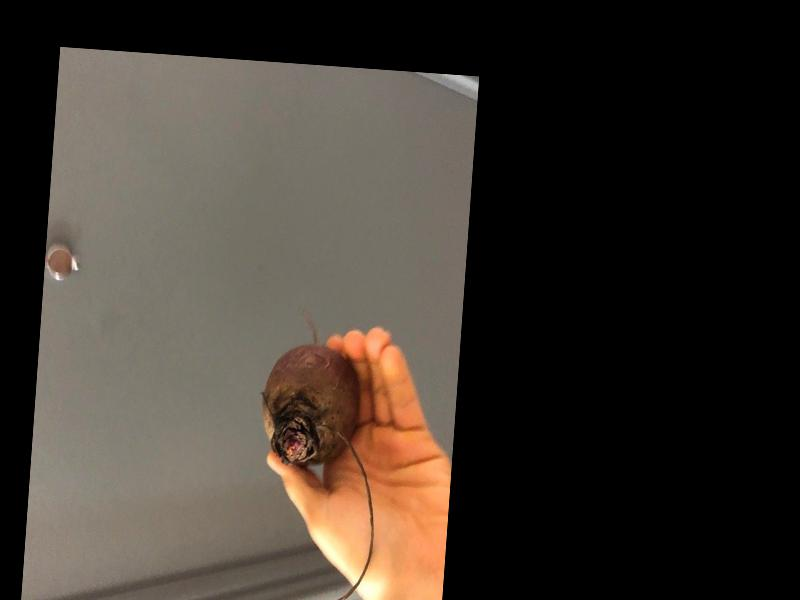Beet: (249, 310, 390, 600)
